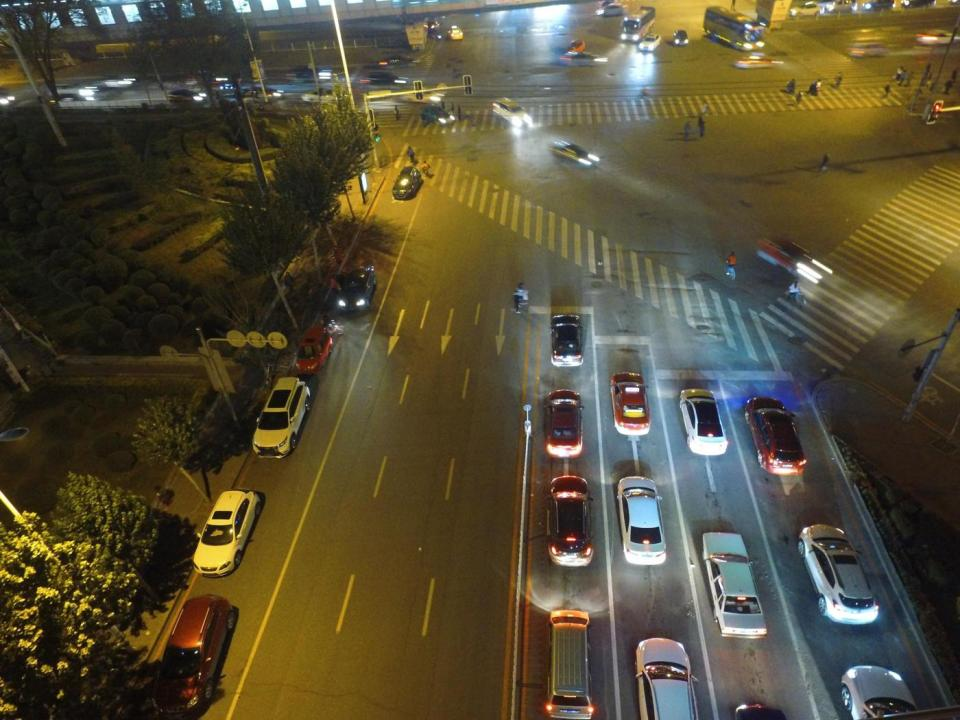bus: (704, 5, 768, 53), (620, 2, 657, 42)
car: (792, 520, 878, 627), (701, 529, 768, 642), (191, 490, 264, 580), (632, 634, 707, 720), (255, 373, 318, 461), (616, 474, 675, 566), (746, 394, 810, 474), (547, 474, 597, 568), (678, 373, 730, 459), (607, 370, 655, 443), (757, 230, 825, 278), (543, 389, 585, 458), (550, 136, 603, 178), (295, 323, 334, 376), (337, 262, 378, 312), (550, 313, 583, 364), (489, 93, 531, 129), (390, 163, 422, 200), (732, 52, 786, 72), (300, 87, 350, 108), (915, 25, 960, 48), (362, 69, 411, 90), (419, 103, 454, 132), (559, 49, 609, 69), (842, 40, 894, 59), (46, 83, 98, 101), (284, 63, 332, 82), (182, 69, 226, 88), (90, 74, 138, 90), (214, 82, 250, 101), (168, 86, 204, 104), (791, 0, 825, 18), (594, 2, 629, 18), (637, 32, 663, 52), (251, 87, 285, 100), (380, 56, 420, 67), (824, 0, 857, 13), (862, 0, 897, 12), (415, 17, 444, 31), (900, 0, 937, 10), (448, 23, 466, 41), (672, 30, 691, 46)
van: (150, 592, 235, 718), (541, 602, 596, 719)
